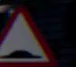Speed Breaker ahead: (0, 5, 49, 61)
